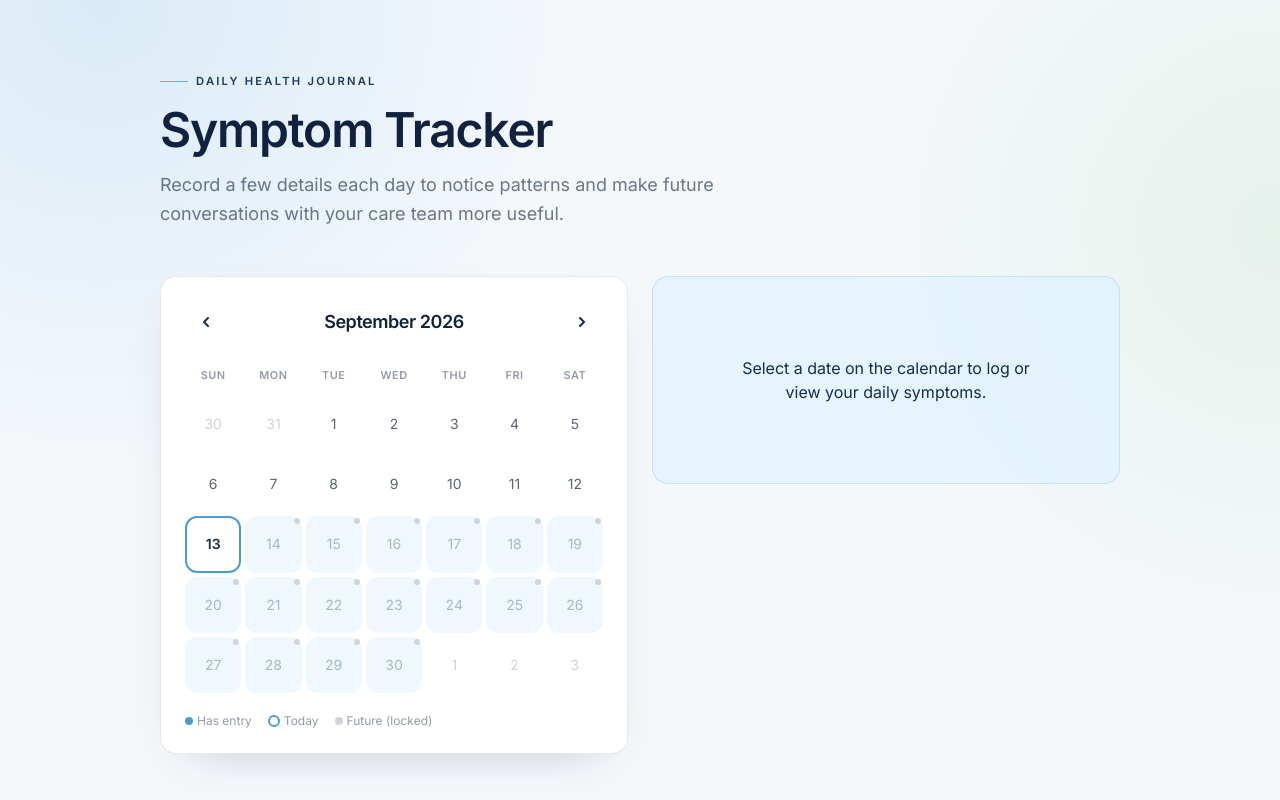
Test case: SymptomTrackerPage › displays the TrackerForm when a valid date is selected
Step 1. Click the cell "13" → point(213, 544), box [185,516,241,573]
(page scrolled)
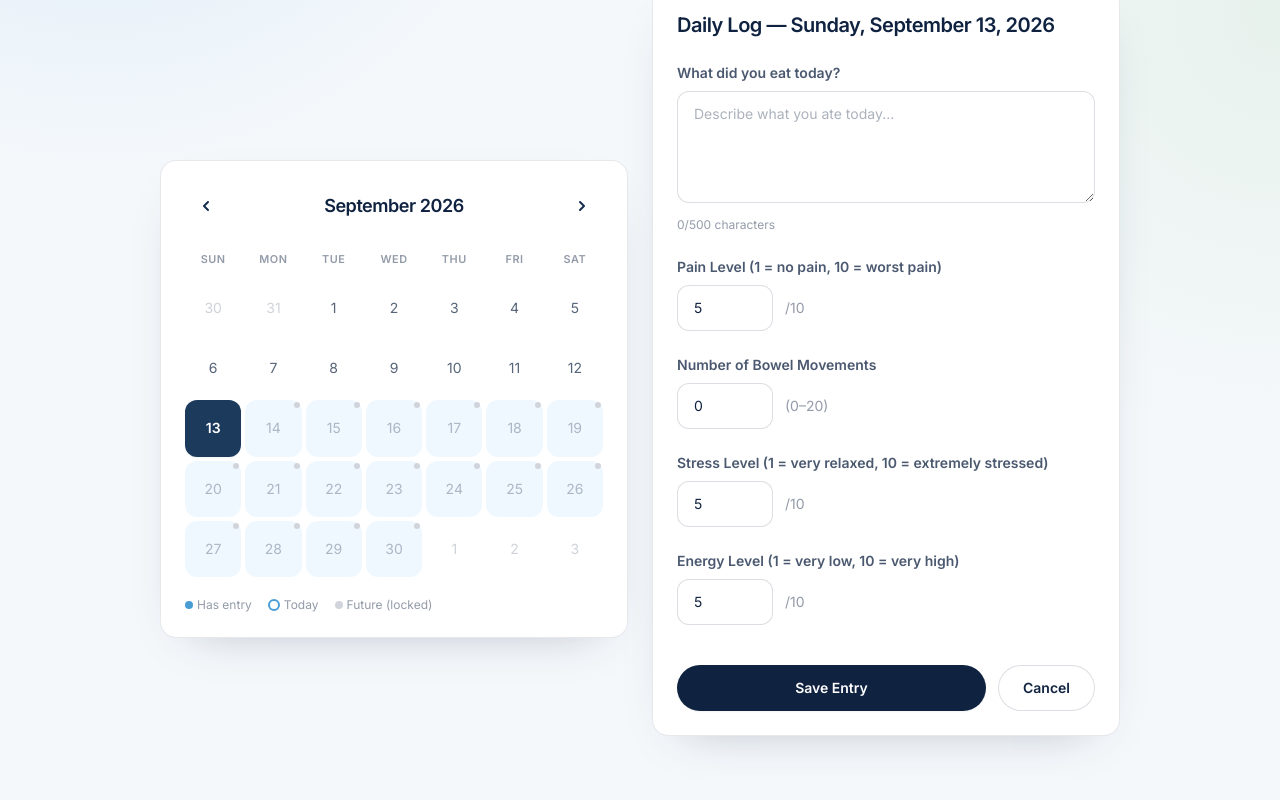
Expected: the button "Save Entry" is shown, [677,665,986,711]
